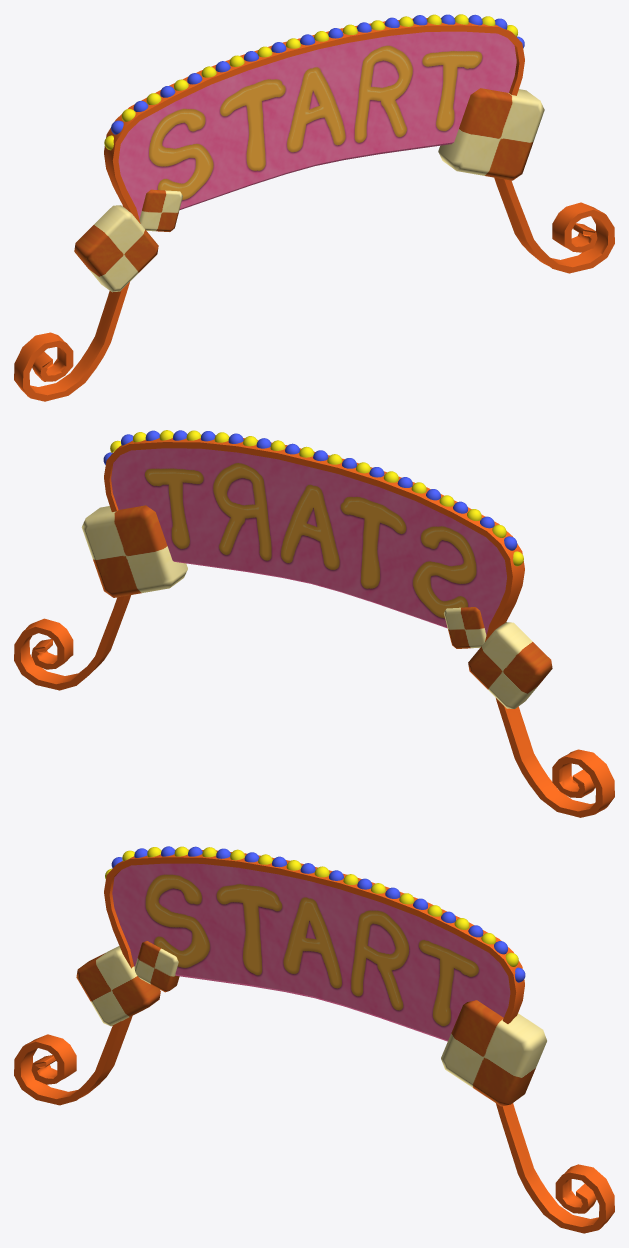
File: BgMD_archi_01_01.fbx
3 renders of one model, top to bottom at view 1: azimuth 30°, elevation 25°; view 2: azimuth 150°, elevation 25°; view 3: azimuth 330°, elevation 25°, orthographic.
Parts seen in each view (by area): view 1: BgMD_archi_01_01; view 2: BgMD_archi_01_01; view 3: BgMD_archi_01_01.
Part boxes in pixels (bbox=[...]): BgMD_archi_01_01: bbox=[14, 14, 614, 401]; BgMD_archi_01_01: bbox=[14, 430, 614, 817]; BgMD_archi_01_01: bbox=[14, 846, 614, 1233].
Size of the model in its own units: 992 by 477 by 55.33.
